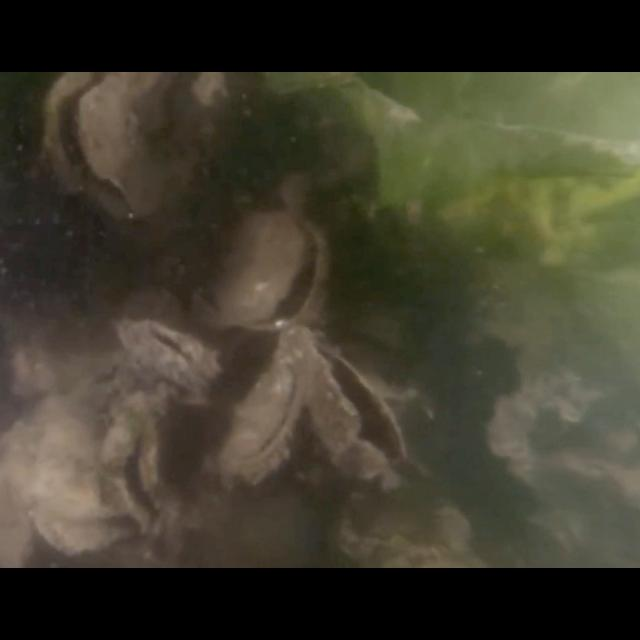Oyster-Closed: (31, 398, 139, 556)
Oyster-Open: (281, 329, 409, 485), (42, 72, 162, 226), (210, 210, 332, 338), (217, 348, 306, 484), (100, 400, 170, 540), (116, 320, 226, 398)
